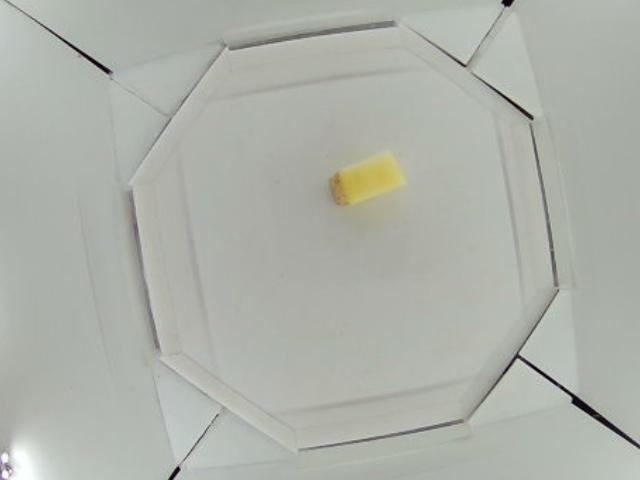Potato: (330, 151, 404, 205)
